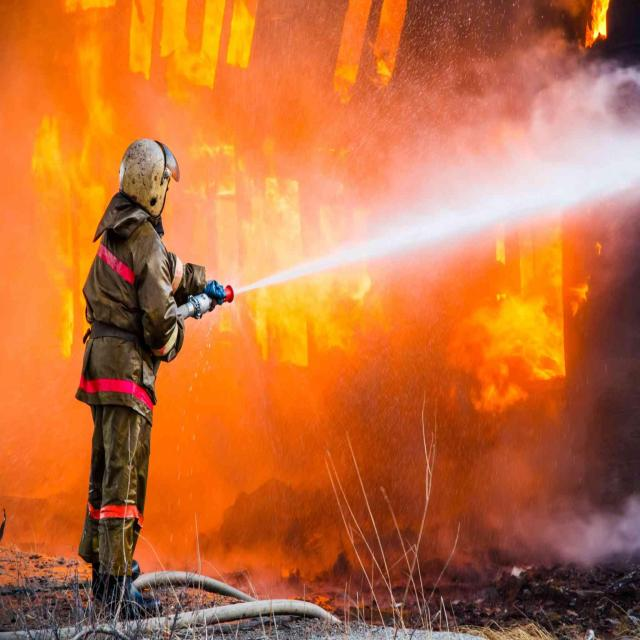Fire: (0, 7, 613, 541)
